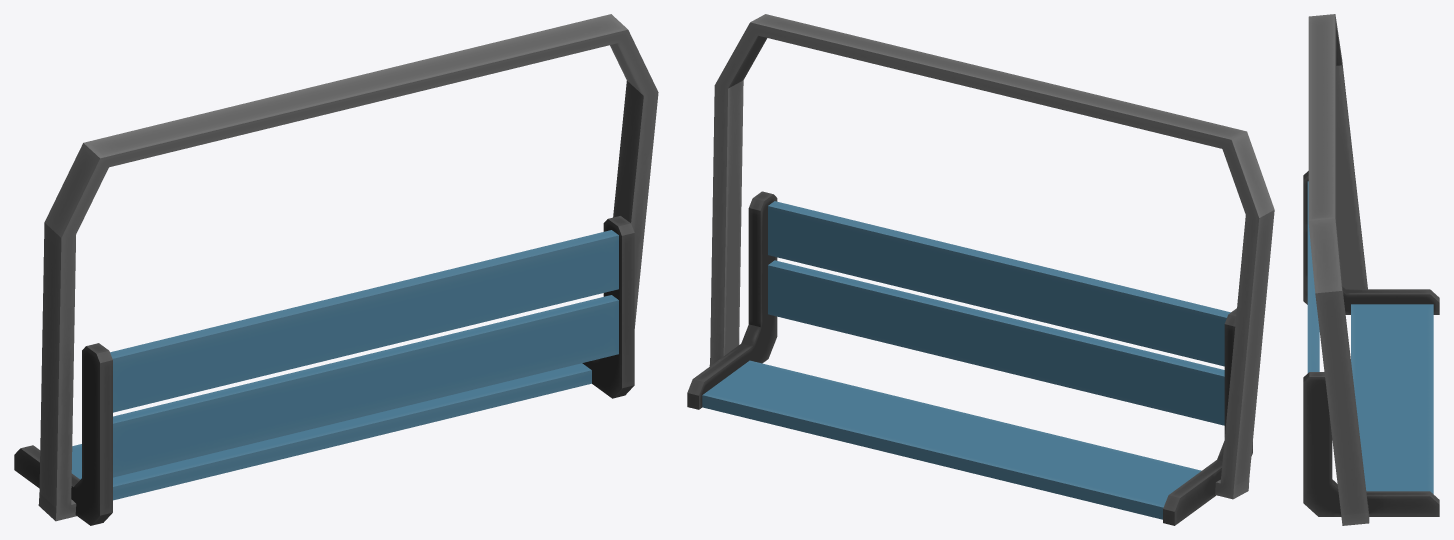
File: Unity standart.obj
3 renders of one model, left to right at view 1: azimuth 30°, elevation 25°; view 2: azimuth 150°, elevation 25°; view 3: azimuth 270°, elevation 25°, orthographic. The views are drawn at different scales.
Parts seen in each view (by area): view 1: Unity_standart.obj.1; view 2: Unity_standart.obj.1; view 3: Unity_standart.obj.1.
Part boxes in pixels (x1=…): Unity_standart.obj.1: x1=14, y1=14, x2=658, y2=525; Unity_standart.obj.1: x1=687, y1=14, x2=1274, y2=525; Unity_standart.obj.1: x1=1303, y1=14, x2=1439, y2=525.
Size of the model in its own units: 232 by 140 by 57.71.
